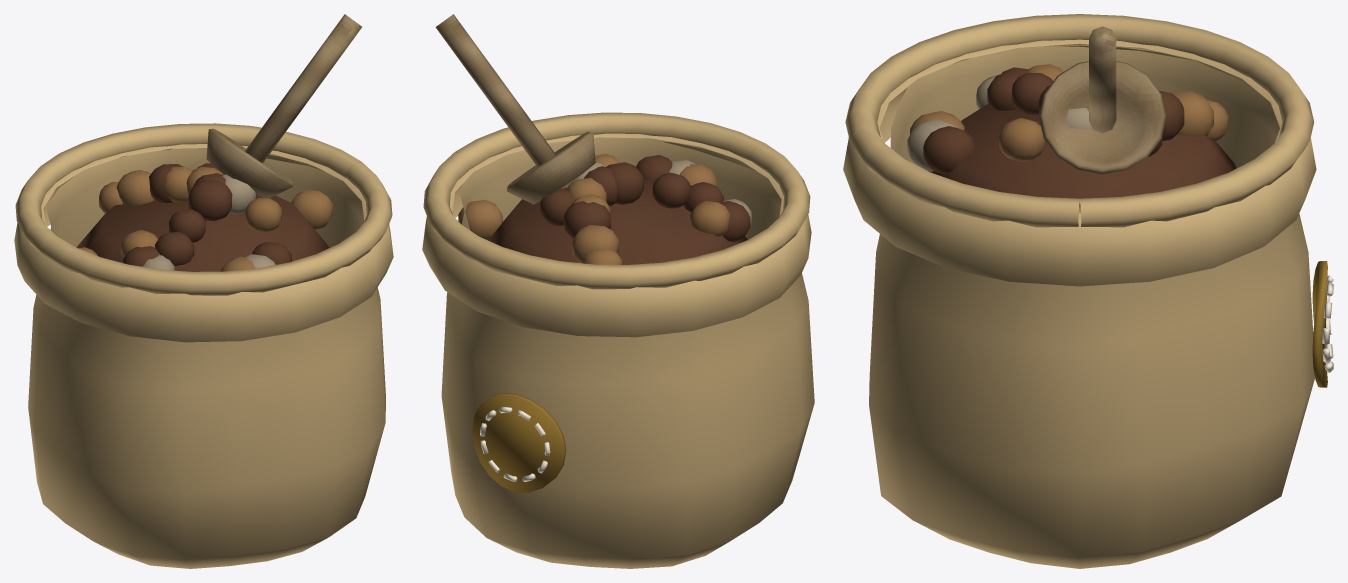
The model's file is pellet_sack_brown.glb.
The picture shows the model from 3 angles, left to right: view 1: azimuth 30°, elevation 25°; view 2: azimuth 150°, elevation 25°; view 3: azimuth 270°, elevation 25°; orthographic projection. The views are drawn at different scales.
Visible parts, largest first — view 1: pellet_sack_brown_hemp, pellet_sack_brown_felt_brown, pellet_sack_brown_wood_light, pellet_sack_brown_felt_tan, pellet_sack_brown_felt_beige; view 2: pellet_sack_brown_hemp, pellet_sack_brown_felt_brown, pellet_sack_brown_wood_light, pellet_sack_brown_felt_mustard, pellet_sack_brown_felt_tan, pellet_sack_brown_thread, pellet_sack_brown_felt_beige; view 3: pellet_sack_brown_hemp, pellet_sack_brown_felt_brown, pellet_sack_brown_wood_light, pellet_sack_brown_felt_tan, pellet_sack_brown_felt_beige, pellet_sack_brown_felt_mustard, pellet_sack_brown_thread.
Boxes of the visible parts, x1,y1,x2,y2 form: pellet_sack_brown_hemp: (14, 123, 393, 568); pellet_sack_brown_felt_brown: (76, 163, 329, 271); pellet_sack_brown_wood_light: (206, 14, 361, 198); pellet_sack_brown_felt_tan: (79, 166, 332, 271); pellet_sack_brown_felt_beige: (142, 174, 275, 270); pellet_sack_brown_hemp: (422, 112, 814, 568); pellet_sack_brown_felt_brown: (488, 155, 750, 264); pellet_sack_brown_wood_light: (435, 14, 595, 204); pellet_sack_brown_felt_mustard: (472, 393, 566, 492); pellet_sack_brown_felt_tan: (458, 153, 729, 264); pellet_sack_brown_thread: (480, 407, 550, 481); pellet_sack_brown_felt_beige: (566, 160, 751, 225); pellet_sack_brown_hemp: (843, 14, 1316, 568); pellet_sack_brown_felt_brown: (923, 67, 1236, 198); pellet_sack_brown_wood_light: (1039, 26, 1166, 174); pellet_sack_brown_felt_tan: (910, 64, 1228, 161); pellet_sack_brown_felt_beige: (907, 74, 1089, 171); pellet_sack_brown_felt_mustard: (1312, 261, 1327, 387); pellet_sack_brown_thread: (1322, 275, 1333, 372).
Bounding box in the file's own units: 0.4168 × 0.5482 × 0.4312.
Materials: 7 (5 with a texture image).
